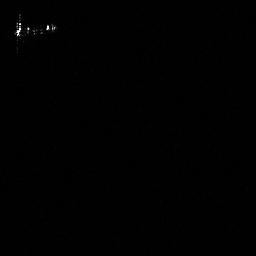ship: (15, 22, 55, 35)
